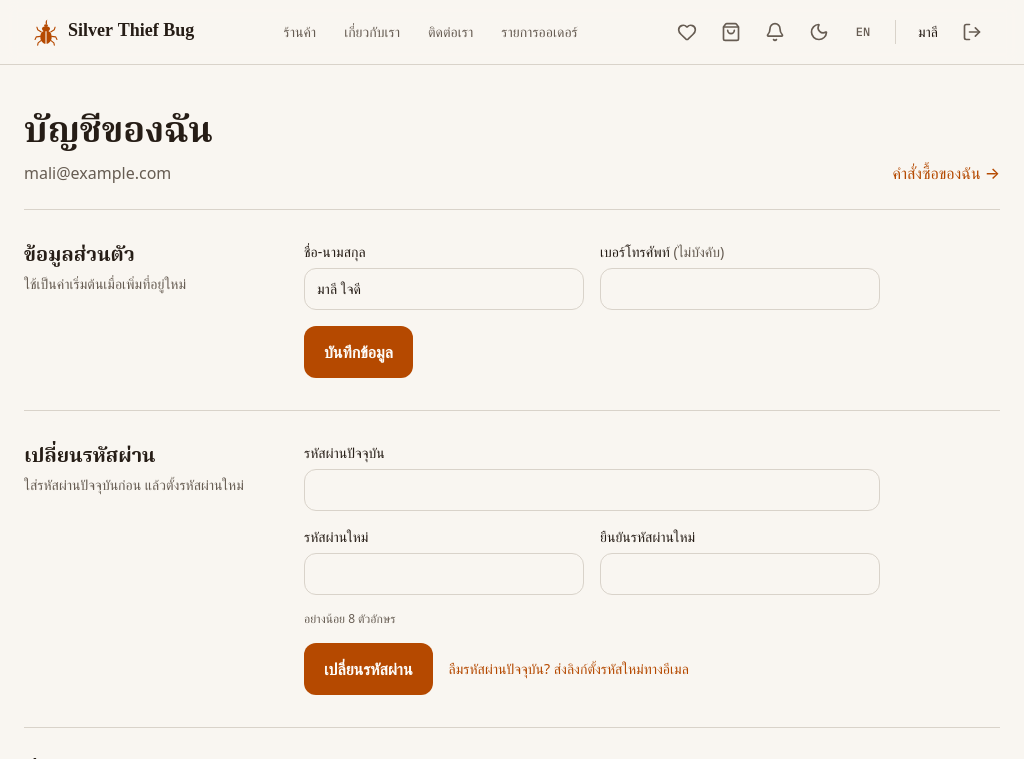
Test case: a Customer changes their password after proving the current one
In the password field labelled "รหัสผ่านปัจจุบัน": (592, 490) left=304, top=469, right=880, bottom=511, type "old-secret"
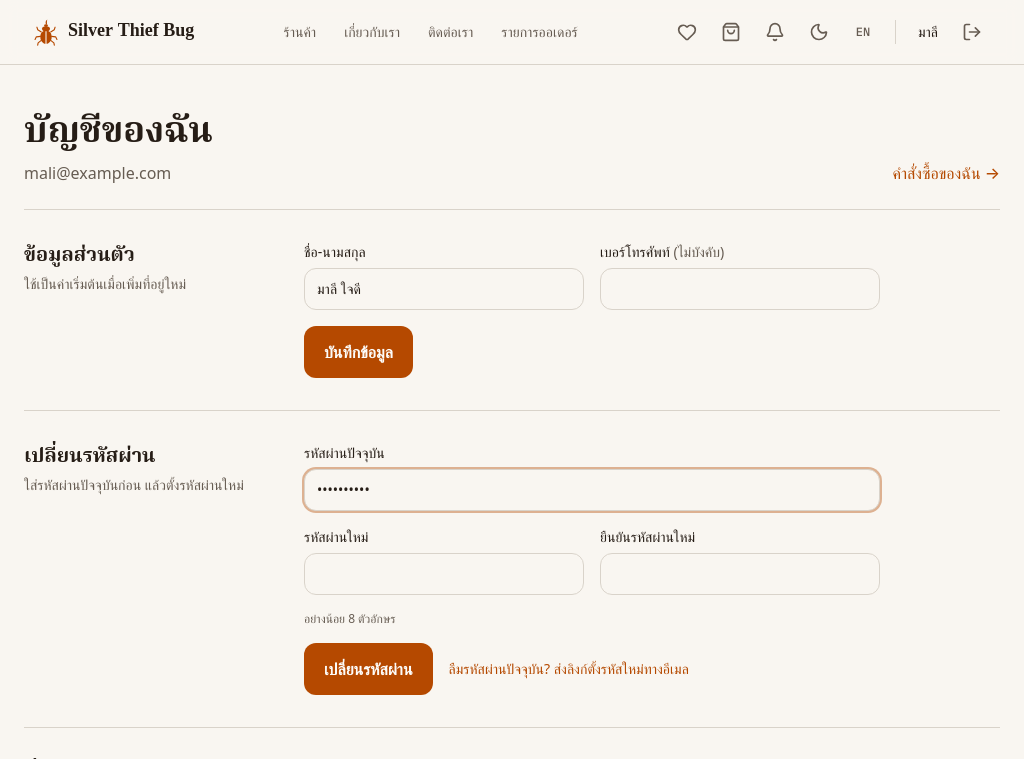
In the password field labelled "รหัสผ่านใหม่": (444, 574) left=304, top=553, right=584, bottom=595, type "new-secret-1"
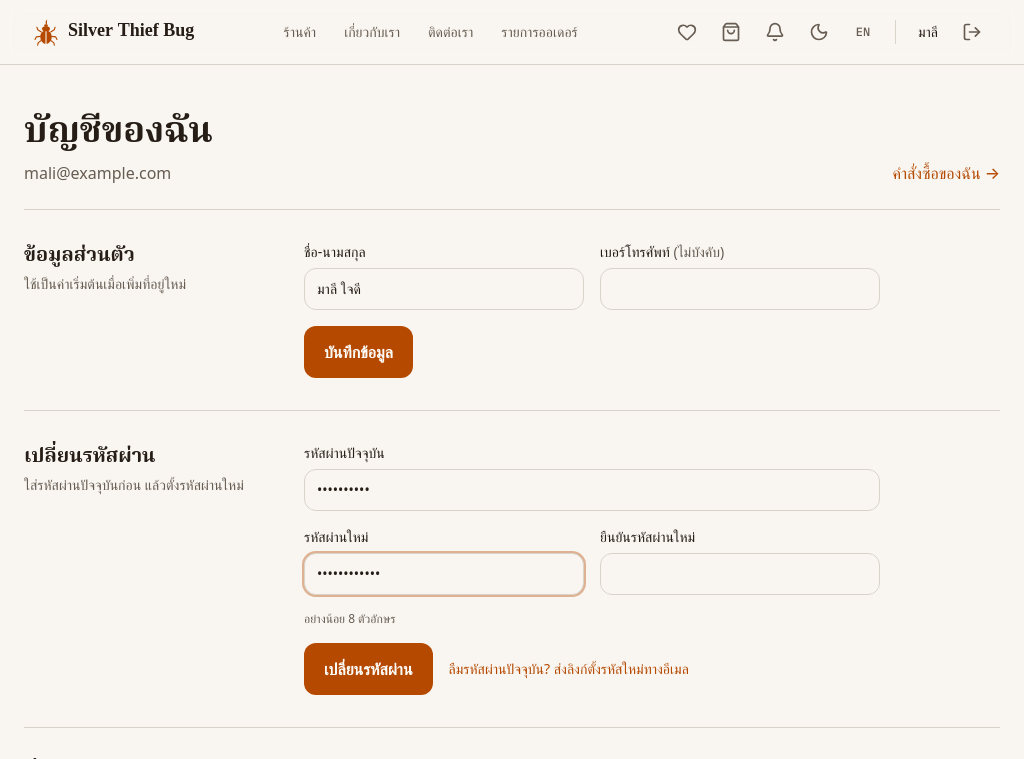
In the password field labelled "ยืนยันรหัสผ่านใหม่": (740, 574) left=600, top=553, right=880, bottom=595, type "new-secret-1"
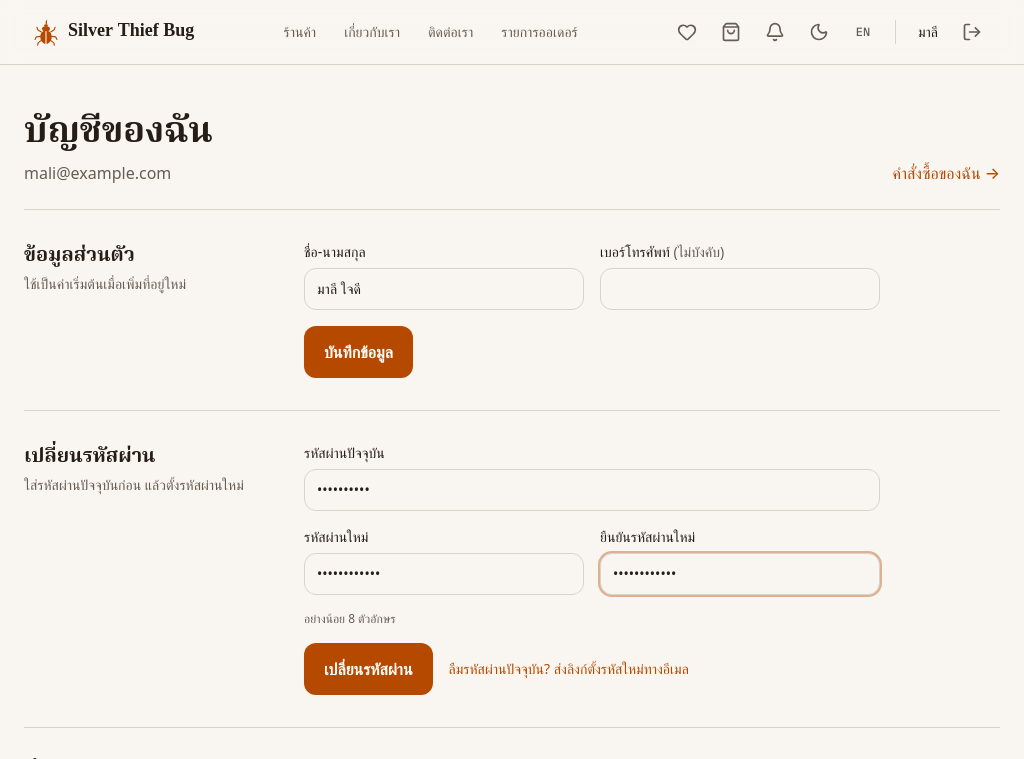
Click the button "เปลี่ยนรหัสผ่าน": click(368, 669) left=304, top=643, right=432, bottom=695
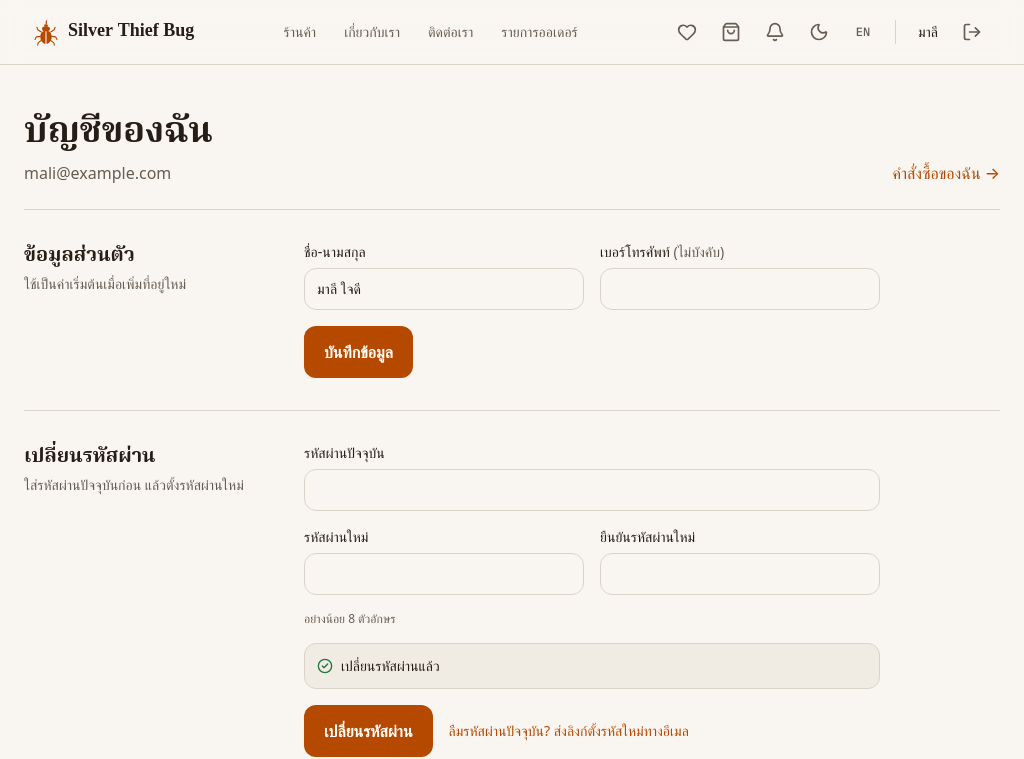
Expected: the text "เปลี่ยนรหัสผ่านแล้ว" is shown, left=341, top=656, right=440, bottom=676
Expected: the password field labelled "รหัสผ่านใหม่" is empty, left=304, top=553, right=584, bottom=595
